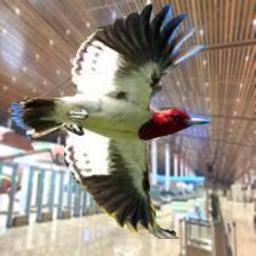Woodpecker: (11, 3, 210, 239)
